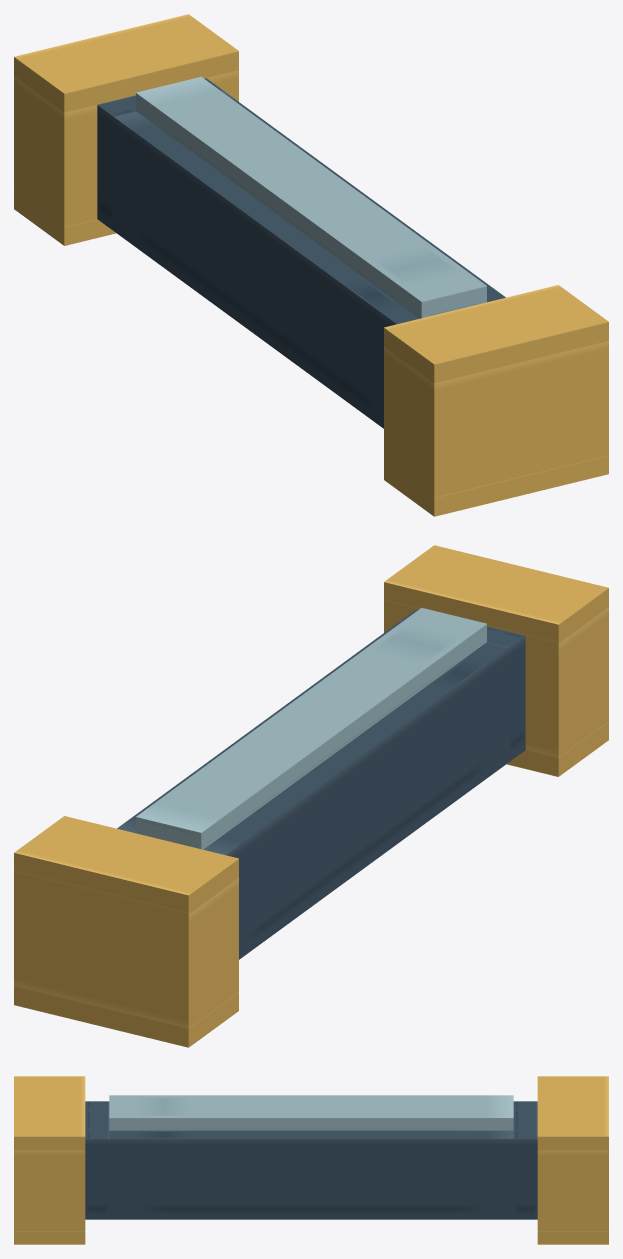
File: sc_arm_link.obj
The picture shows the model from 3 angles, top to bottom: view 1: azimuth 30°, elevation 25°; view 2: azimuth 150°, elevation 25°; view 3: azimuth 270°, elevation 25°; orthographic projection. The views are drawn at different scales.
Size of the model in its own units: 2.4 by 2 by 10.
Materials: 1 (1 with a texture image).
